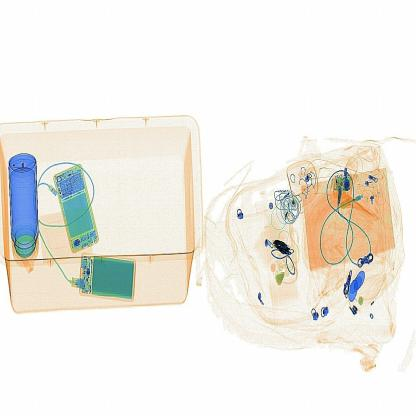scissors: (266, 233, 299, 264)
